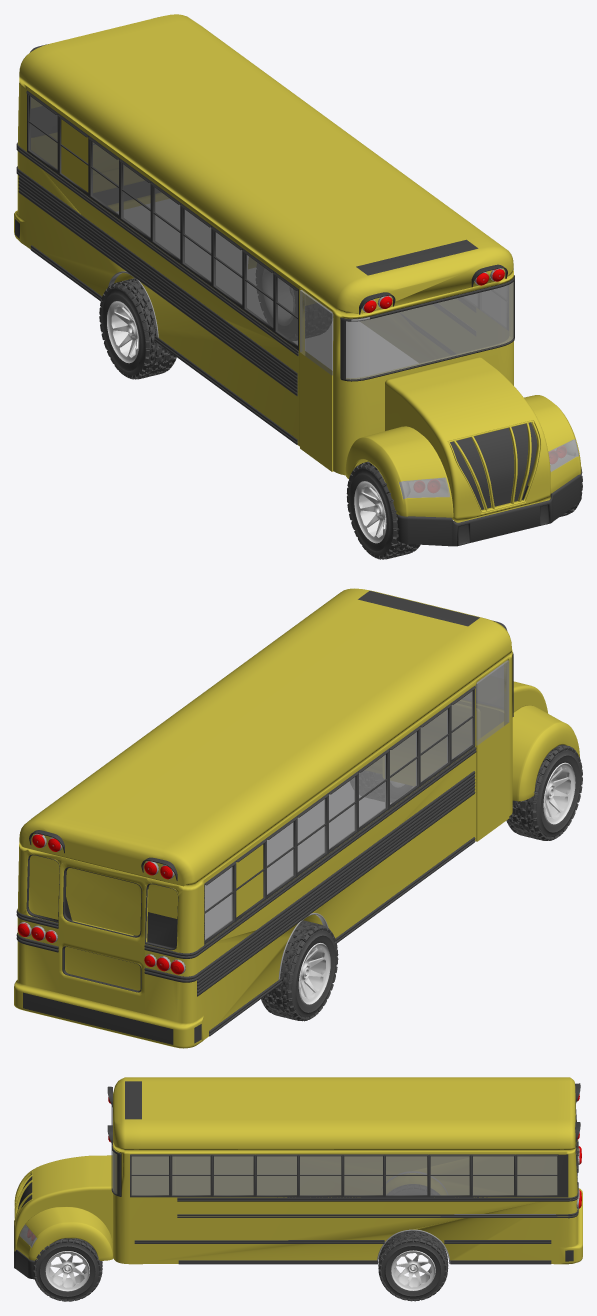
The model's file is school+bus+1st.fbx.
3 renders of one model, top to bottom at view 1: azimuth 30°, elevation 25°; view 2: azimuth 150°, elevation 25°; view 3: azimuth 270°, elevation 25°, orthographic. The views are drawn at different scales.
Parts seen in each view (by area): view 1: polySurface4, polySurface2, polySurface3, Wheel_7, Wheel_6, Wheel_4; view 2: polySurface4, polySurface2, polySurface3, Wheel_7, Wheel_6, Wheel_5; view 3: polySurface4, polySurface2, Wheel_4, Wheel_5, polySurface3, Wheel_7.
Part boxes in pixels (x1,y1,x2,y2): polySurface4: (14,14,581,546); polySurface2: (30,97,575,497); polySurface3: (300,290,333,471); Wheel_7: (99,278,176,379); Wheel_6: (346,461,420,559); Wheel_4: (256,263,332,340); polySurface4: (14,588,579,1048); polySurface2: (205,692,472,939); polySurface3: (476,660,509,841); Wheel_7: (261,920,338,1021); Wheel_6: (506,744,582,840); Wheel_5: (350,771,412,801); polySurface4: (14,1077,582,1279); polySurface2: (19,1152,556,1245); Wheel_4: (378,1231,448,1301); Wheel_5: (33,1238,102,1301); polySurface3: (132,1157,173,1194); Wheel_7: (387,1184,438,1194).
Size of the model in its own units: 109 by 131 by 397.
